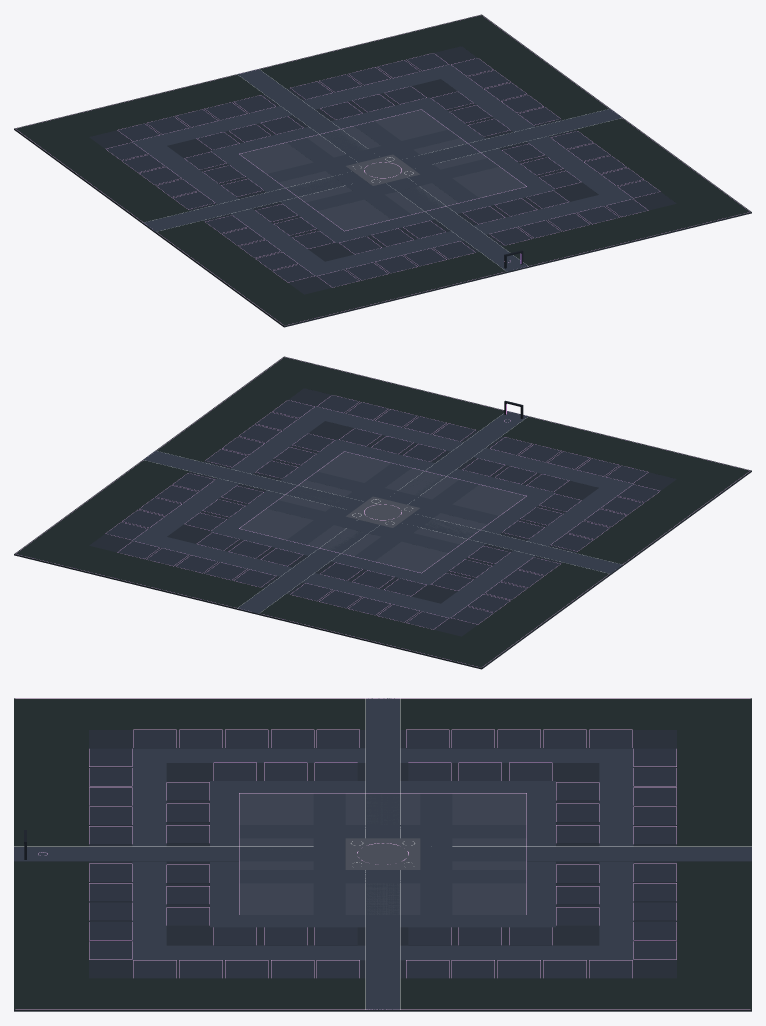
3 views of the same model, one above another, from view 1: azimuth 30°, elevation 25°; view 2: azimuth 150°, elevation 25°; view 3: azimuth 270°, elevation 25° (orthographic). The views are drawn at different scales.
Visible parts, largest first — view 1: district_cero.lod1; view 2: district_cero.lod1; view 3: district_cero.lod1.
Part boxes in pixels (x1=…): district_cero.lod1: x1=14, y1=14, x2=751, y2=327; district_cero.lod1: x1=14, y1=356, x2=751, y2=669; district_cero.lod1: x1=14, y1=698, x2=751, y2=1011.
Bounding box in the file's own units: 256 × 7.63 × 256.
